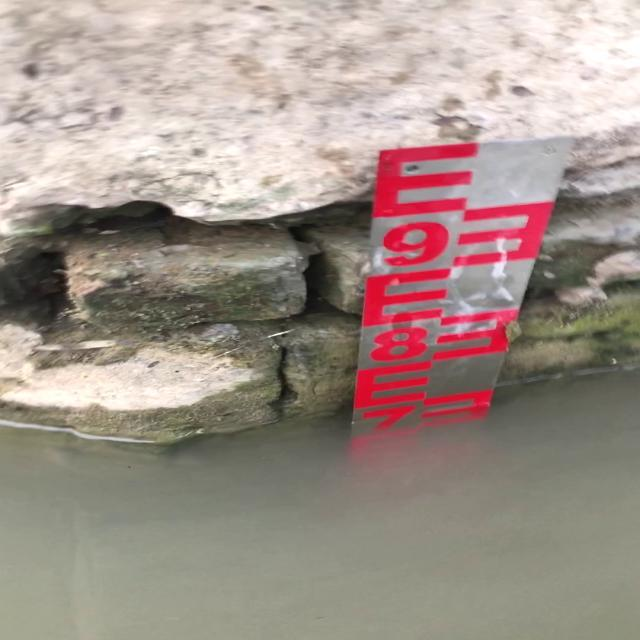ruler: (338, 125, 578, 445)
value: (368, 209, 462, 271), (360, 317, 436, 363), (352, 399, 422, 439)
